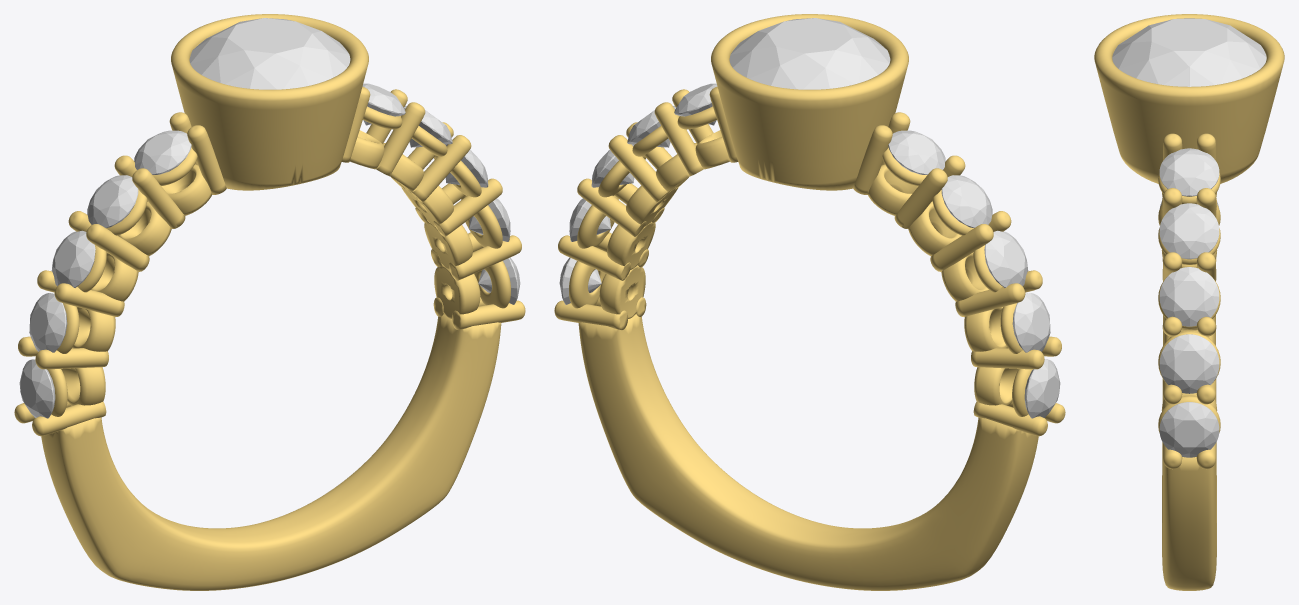
File: diamond-round-yellowgold-bezelset-europeanshank-5stone.glb
3 views of the same model, side by side, from view 1: azimuth 30°, elevation 25°; view 2: azimuth 150°, elevation 25°; view 3: azimuth 270°, elevation 25° (orthographic). The views are drawn at different scales.
Visible parts, largest first — view 1: metal, stone, side.006, side.007, side.005, side.008, side.009, side, side.001, side.004, side.003; view 2: metal, stone, side.006, side.007, side.005, side.008, side.009, side, side.001, side.004, side.003; view 3: metal, stone, side.003, side.002, side.001, side.004, side.
Part boxes in pixels (bbox=[...]): metal: bbox=[14, 14, 525, 590]; stone: bbox=[189, 18, 350, 89]; side.006: bbox=[87, 175, 138, 227]; side.007: bbox=[51, 230, 95, 287]; side.005: bbox=[134, 130, 191, 174]; side.008: bbox=[29, 293, 67, 352]; side.009: bbox=[19, 359, 55, 418]; side: bbox=[362, 83, 405, 125]; side.001: bbox=[403, 106, 452, 147]; side.004: bbox=[478, 257, 520, 304]; side.003: bbox=[469, 198, 510, 241]; metal: bbox=[554, 14, 1065, 590]; stone: bbox=[729, 18, 890, 89]; side.006: bbox=[941, 175, 992, 227]; side.007: bbox=[984, 230, 1028, 287]; side.005: bbox=[888, 130, 945, 174]; side.008: bbox=[1012, 293, 1050, 352]; side.009: bbox=[1024, 359, 1060, 418]; side: bbox=[674, 83, 717, 125]; side.001: bbox=[627, 106, 676, 147]; side.004: bbox=[559, 257, 601, 304]; side.003: bbox=[569, 198, 610, 241]; metal: bbox=[1094, 14, 1284, 590]; stone: bbox=[1112, 18, 1266, 86]; side.003: bbox=[1159, 334, 1219, 393]; side.002: bbox=[1159, 267, 1219, 326]; side.001: bbox=[1159, 203, 1219, 259]; side.004: bbox=[1159, 402, 1219, 457]; side: bbox=[1159, 148, 1219, 196].
Bounding box in the file's own units: 22.63 × 23.81 × 7.94.
